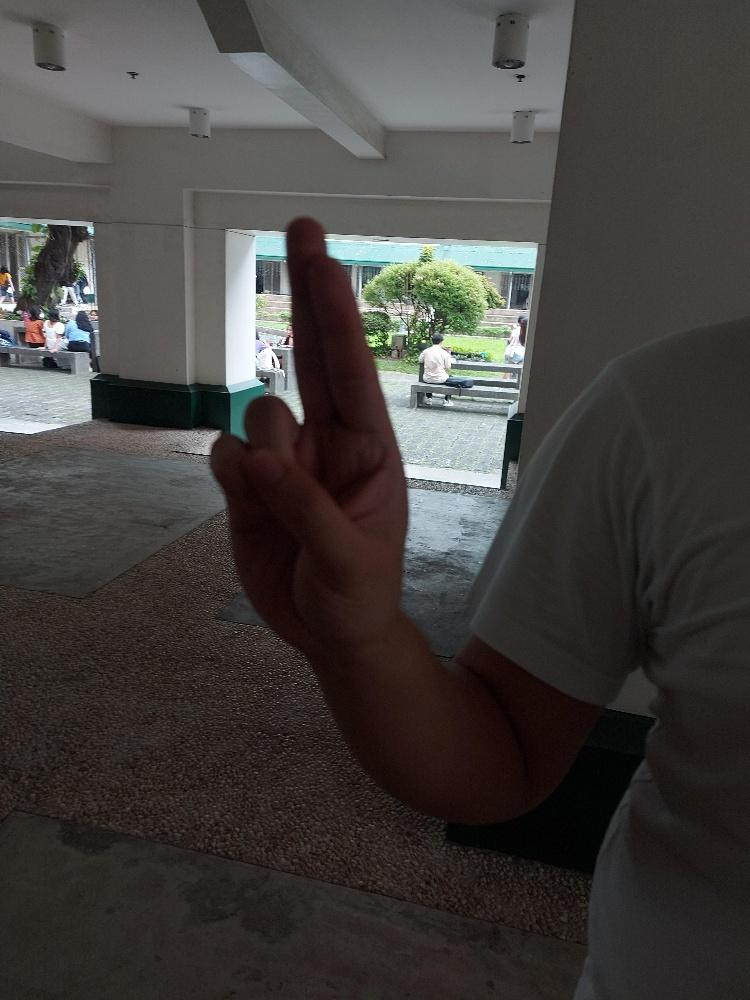u: (204, 215, 412, 648)
